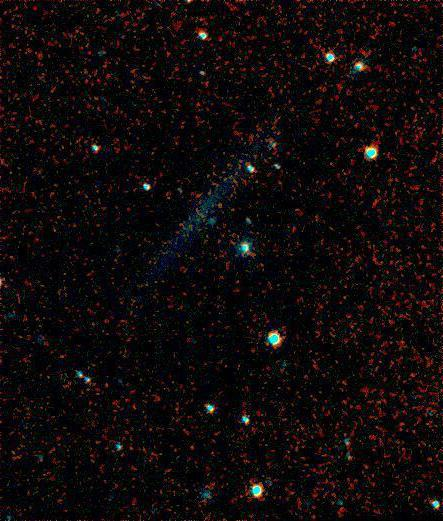star: (89, 369, 119, 399)
